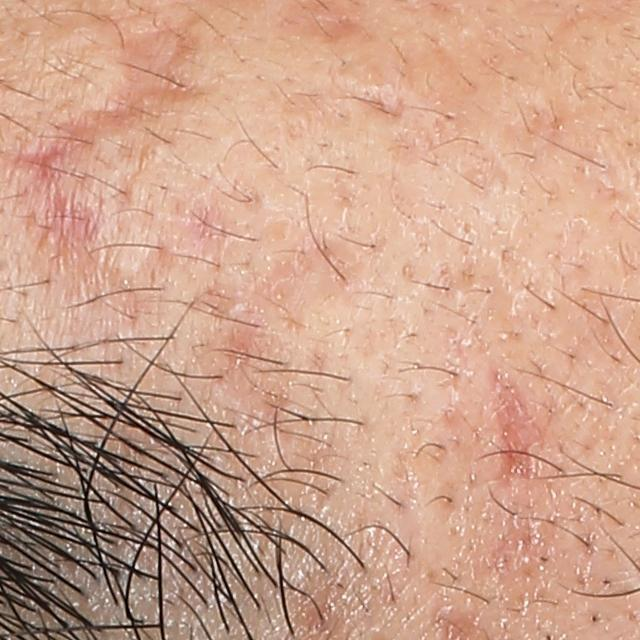atrophic_scar: (14, 177, 150, 327), (486, 366, 545, 484), (268, 234, 369, 293), (210, 332, 269, 390), (349, 77, 408, 133), (175, 200, 231, 258), (185, 279, 244, 319)
